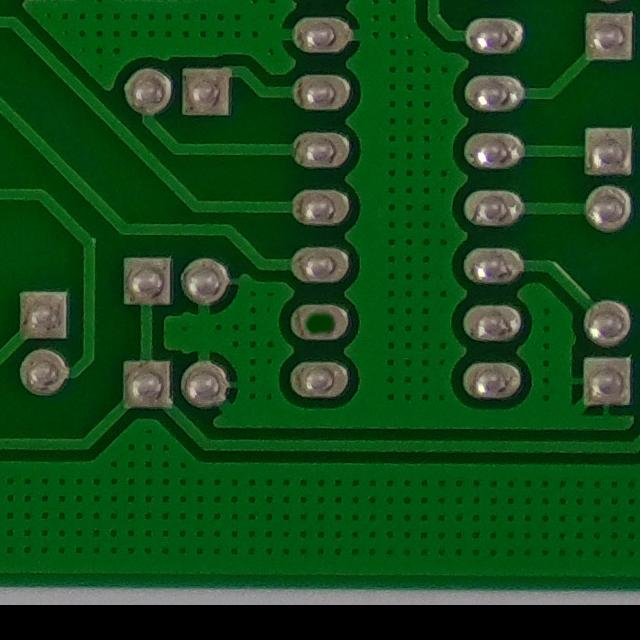missing_hole: (285, 293, 356, 348)
